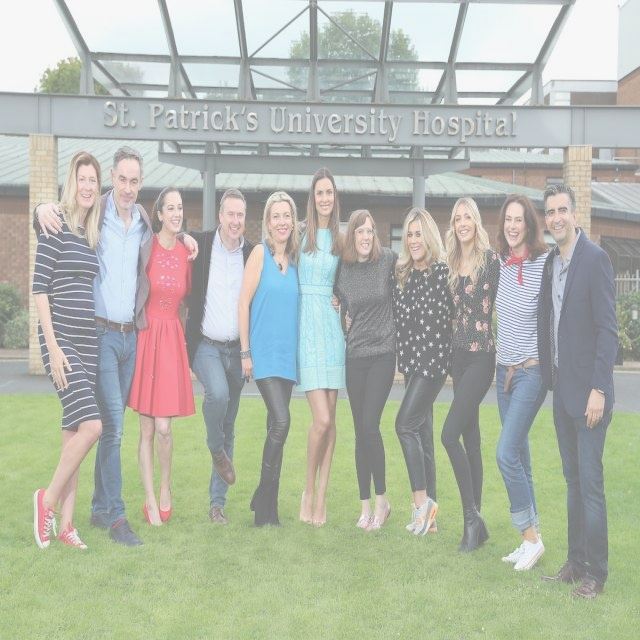pessoa: (30, 142, 202, 550), (342, 205, 457, 540), (533, 180, 621, 604), (29, 148, 105, 552), (331, 207, 407, 532), (183, 182, 254, 528), (438, 195, 502, 554), (237, 190, 303, 530), (492, 192, 550, 574), (291, 164, 350, 526), (137, 184, 193, 528)
